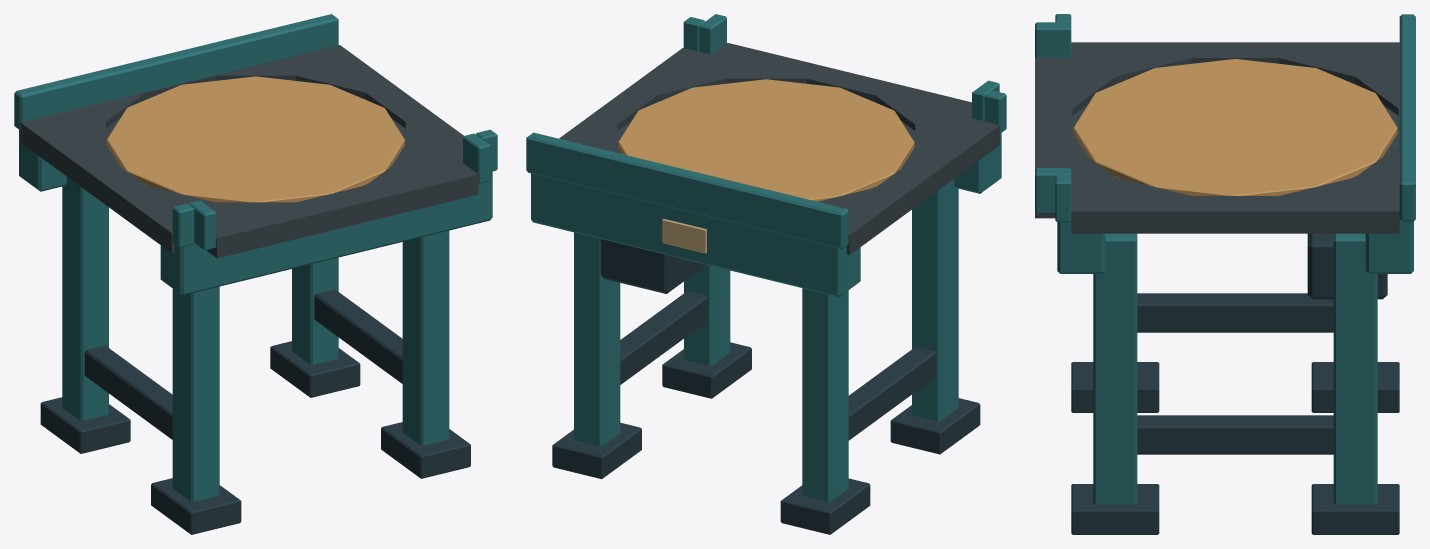
Rendered from conveyor-diverter.glb.
The picture shows the model from 3 angles, left to right: view 1: azimuth 30°, elevation 25°; view 2: azimuth 150°, elevation 25°; view 3: azimuth 270°, elevation 25°; orthographic projection. The views are drawn at different scales.
Parts seen in each view (by area): view 1: conveyor-diverter__batch_01, conveyor-diverter__batch_00, conveyor-diverter__batch_04, conveyor-diverter__batch_02; view 2: conveyor-diverter__batch_01, conveyor-diverter__batch_04, conveyor-diverter__batch_02, conveyor-diverter__batch_00, conveyor-diverter__batch_03; view 3: conveyor-diverter__batch_01, conveyor-diverter__batch_04, conveyor-diverter__batch_00, conveyor-diverter__batch_02.
Part boxes in pixels (x1=…): conveyor-diverter__batch_01: x1=14, y1=14, x2=497, y2=501; conveyor-diverter__batch_00: x1=20, y1=45, x2=478, y2=258; conveyor-diverter__batch_04: x1=106, y1=76, x2=404, y2=202; conveyor-diverter__batch_02: x1=40, y1=289, x2=470, y2=534; conveyor-diverter__batch_01: x1=526, y1=14, x2=1006, y2=501; conveyor-diverter__batch_04: x1=618, y1=79, x2=914, y2=201; conveyor-diverter__batch_02: x1=552, y1=239, x2=980, y2=534; conveyor-diverter__batch_00: x1=559, y1=43, x2=999, y2=254; conveyor-diverter__batch_03: x1=662, y1=218, x2=706, y2=253; conveyor-diverter__batch_01: x1=1035, y1=14, x2=1415, y2=504; conveyor-diverter__batch_04: x1=1073, y1=59, x2=1397, y2=195; conveyor-diverter__batch_00: x1=1035, y1=42, x2=1399, y2=233; conveyor-diverter__batch_02: x1=1071, y1=233, x2=1399, y2=534.
Bounding box in the file's own units: 1 × 1 × 0.95.
